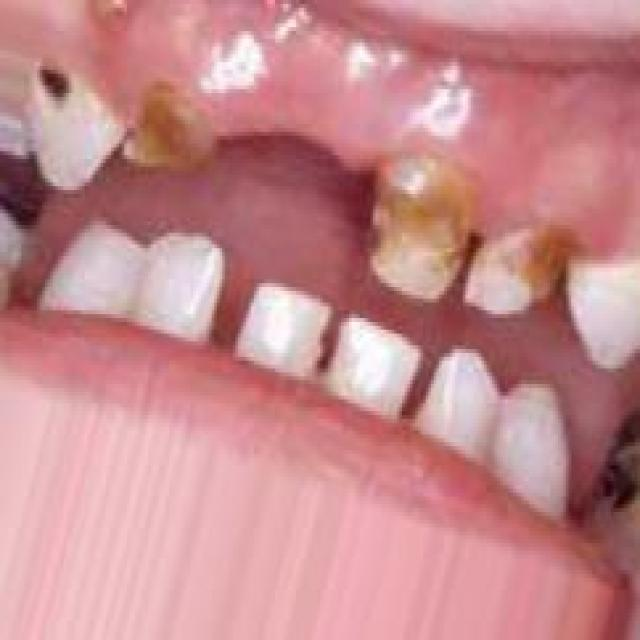caries: (362, 146, 474, 306), (120, 72, 223, 185), (493, 211, 582, 323), (30, 46, 84, 121)
